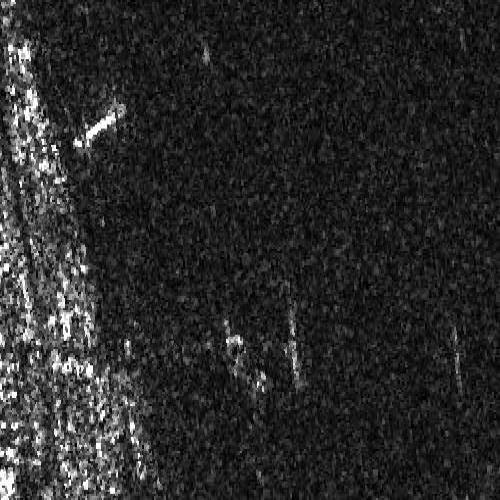ship: (74, 102, 128, 150)
